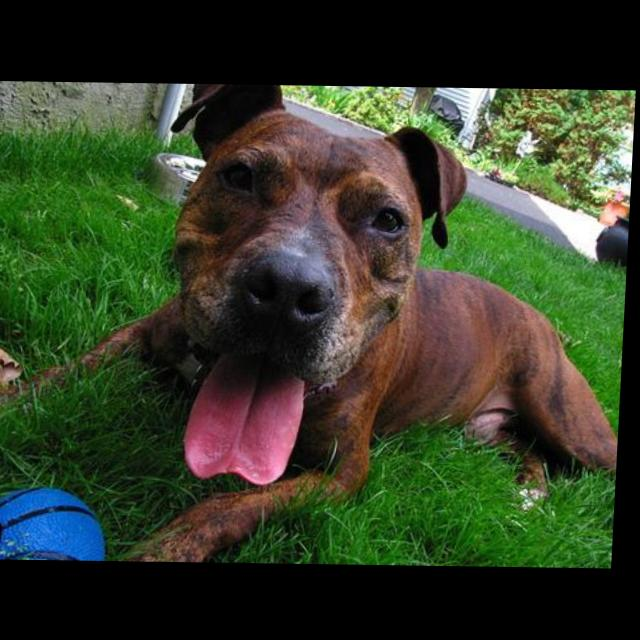amstaff: (1, 82, 638, 567)
